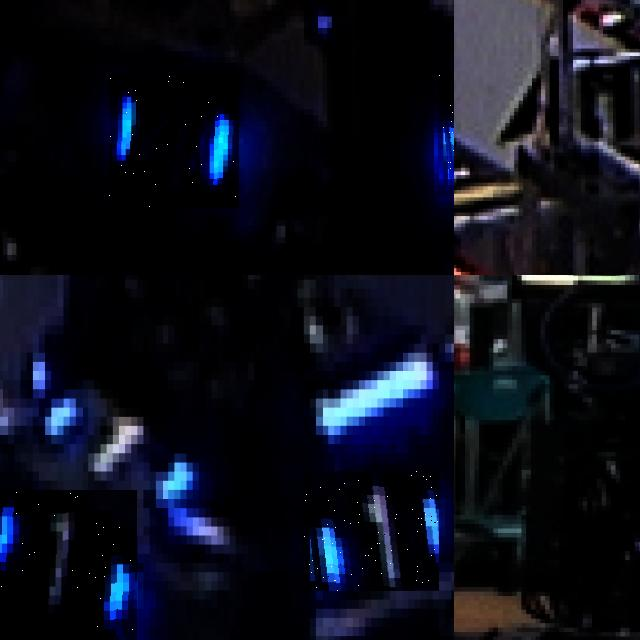B1: (0, 489, 137, 640), (39, 389, 193, 508), (303, 471, 439, 591)
B4: (109, 74, 239, 208)
